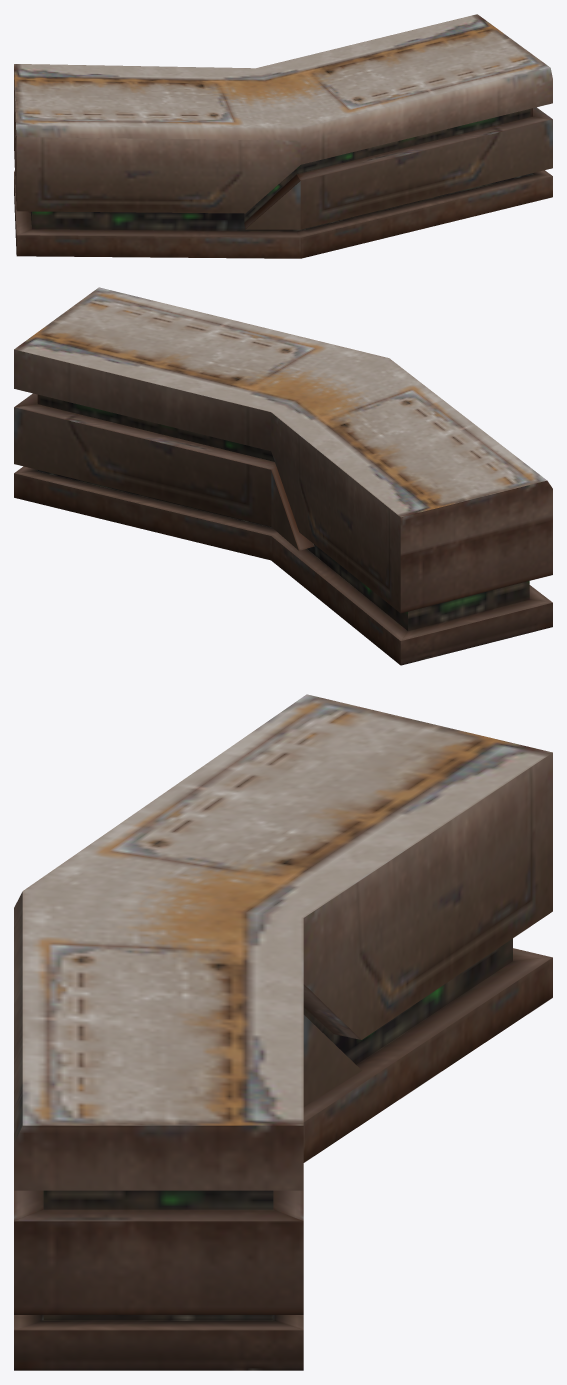
Rendered from yw_leinabao_baobian02.FBX.
The picture shows the model from 3 angles, top to bottom: view 1: azimuth 30°, elevation 25°; view 2: azimuth 150°, elevation 25°; view 3: azimuth 270°, elevation 25°; orthographic projection. The views are drawn at different scales.
Visible parts, largest first — view 1: yw_leinabao_baobian02; view 2: yw_leinabao_baobian02; view 3: yw_leinabao_baobian02.
Part boxes in pixels (bbox=[...]): yw_leinabao_baobian02: bbox=[14, 14, 552, 258]; yw_leinabao_baobian02: bbox=[14, 287, 552, 665]; yw_leinabao_baobian02: bbox=[14, 694, 552, 1370].
Bounding box in the file's own units: 1385 × 365 × 728.
